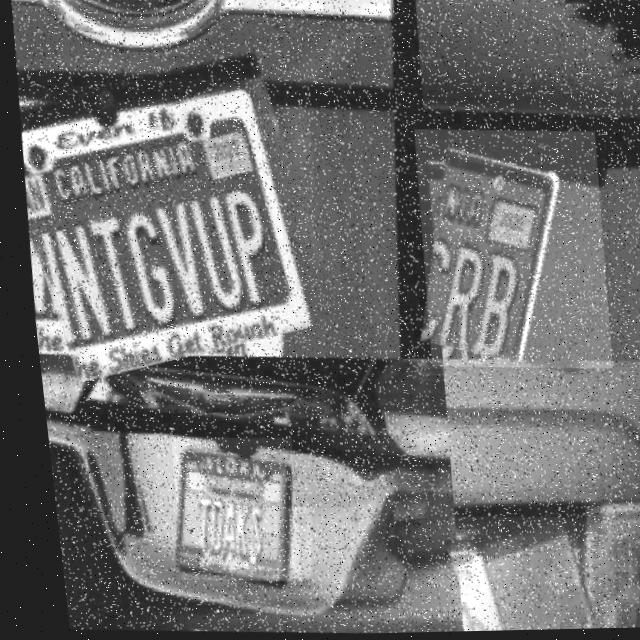LicensePlate: (5, 55, 331, 377), (403, 127, 612, 374), (155, 435, 293, 584), (432, 515, 580, 633)
